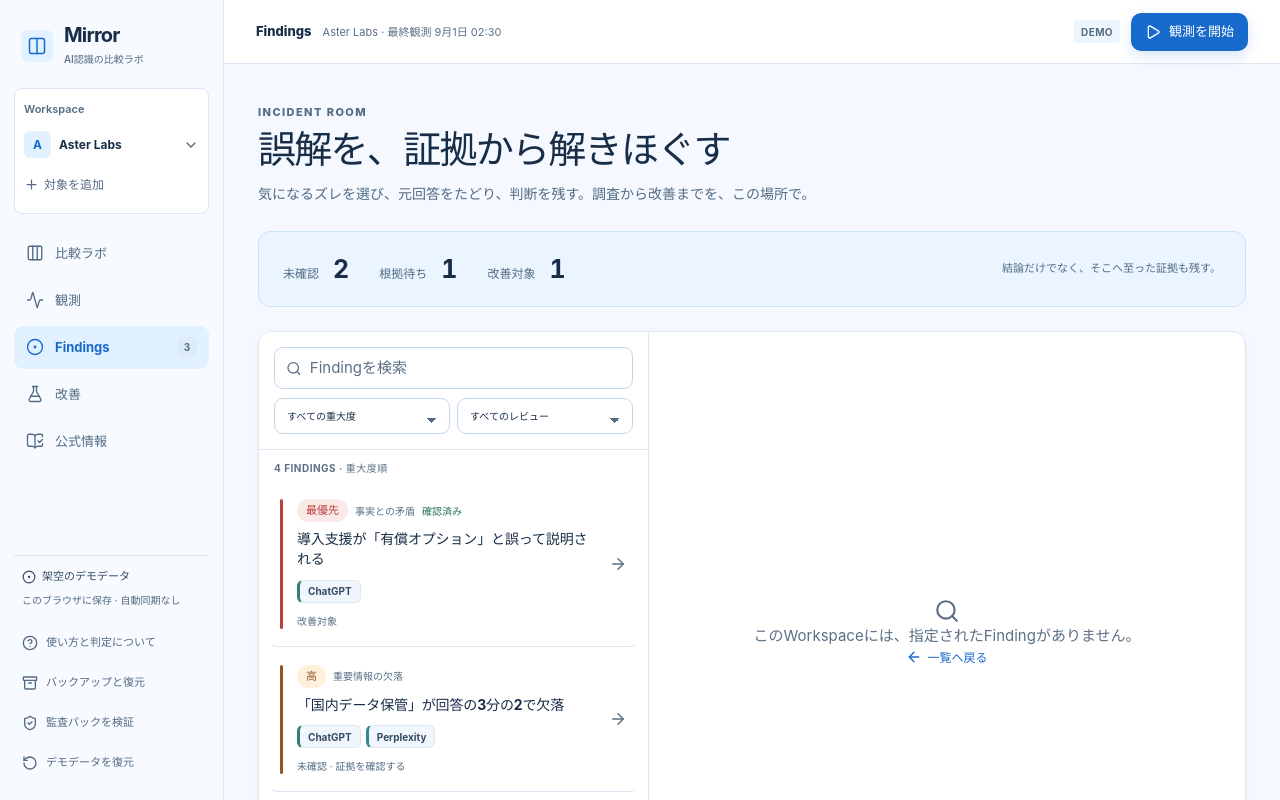
Test case: Incident Room interactions › never silently substitutes another incident for a stale route
Expected: the text "このWorkspaceには、指定されたFindingがありません。" is shown, [754, 624, 1140, 648]
Expected: the button "判断を保存" is not shown
Click the link "一覧へ戻る": x=947, y=657 [906, 648, 988, 667]
(page scrolled)
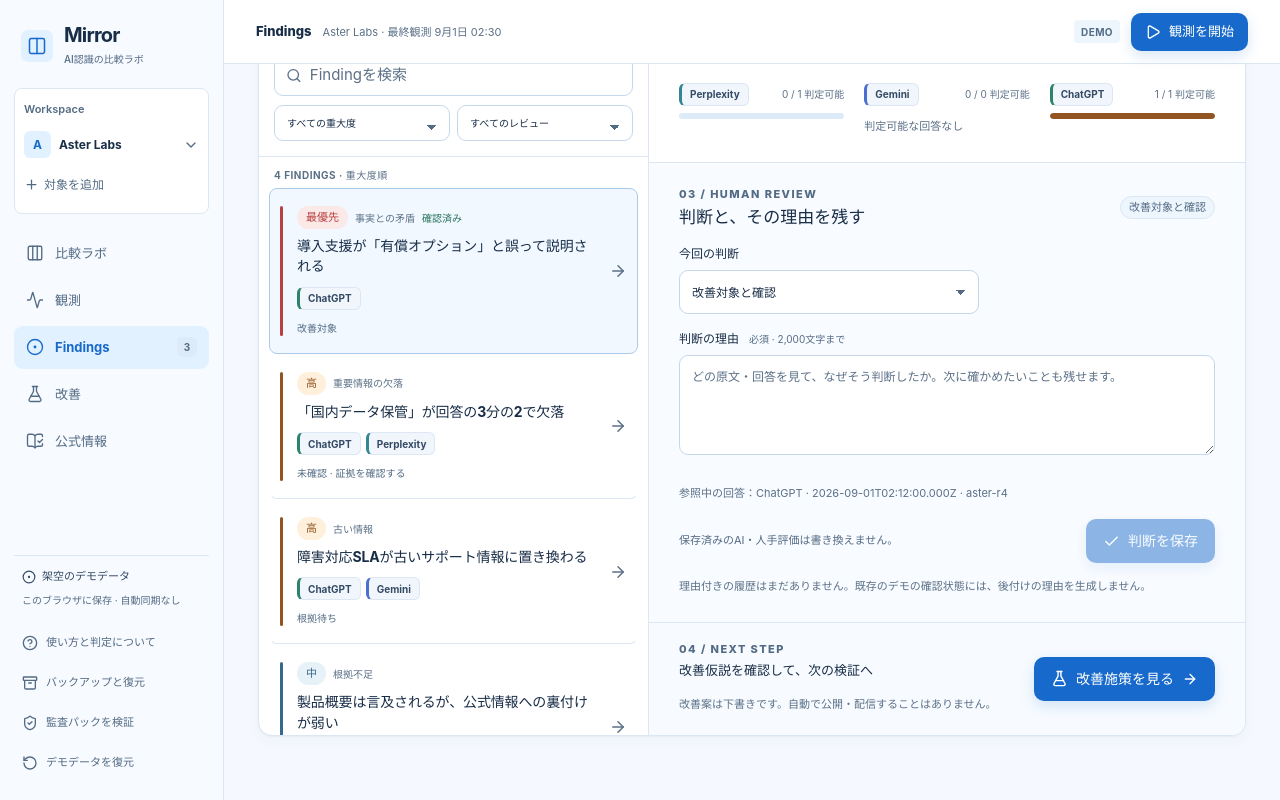
Now the button "判断を保存" is shown, box [1086, 519, 1215, 563]
